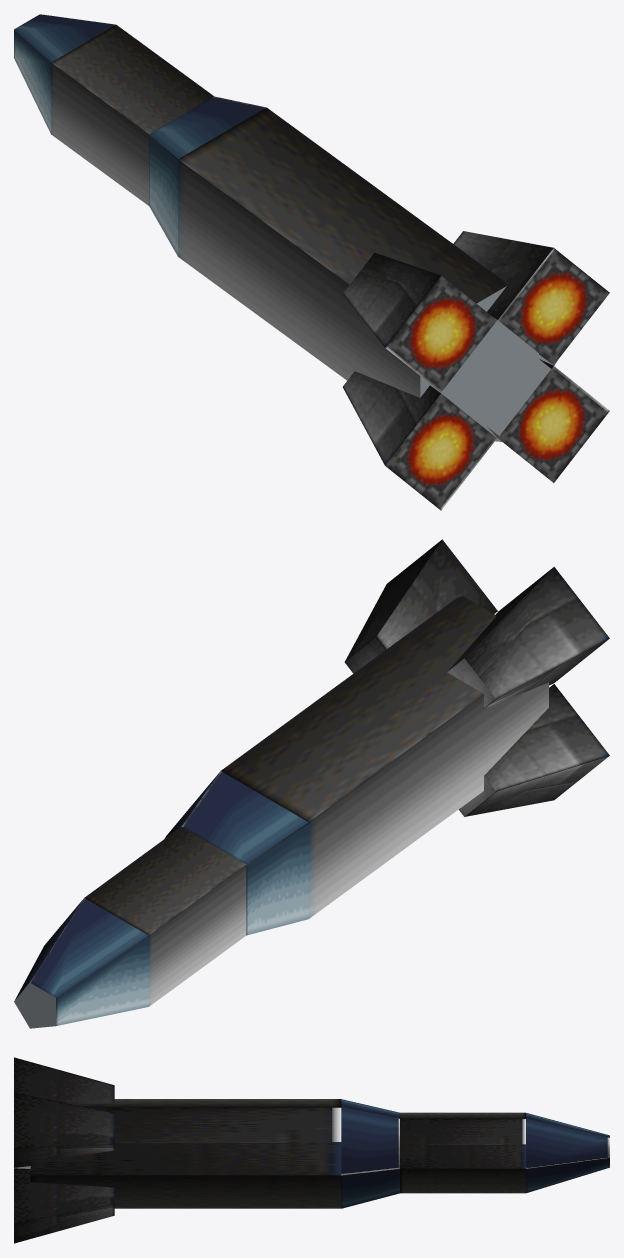
File: missile.obj
3 views of the same model, one above another, from view 1: azimuth 30°, elevation 25°; view 2: azimuth 150°, elevation 25°; view 3: azimuth 270°, elevation 25° (orthographic). The views are drawn at different scales.
Parts seen in each view (by area): view 1: missile; view 2: missile; view 3: missile.
Boxes of the visible parts, x1=… form: missile: x1=14, y1=14, x2=609, y2=510; missile: x1=14, y1=539, x2=609, y2=1028; missile: x1=14, y1=1057, x2=609, y2=1243.
Size of the model in its own units: 9.92 by 9.92 by 35.5.
